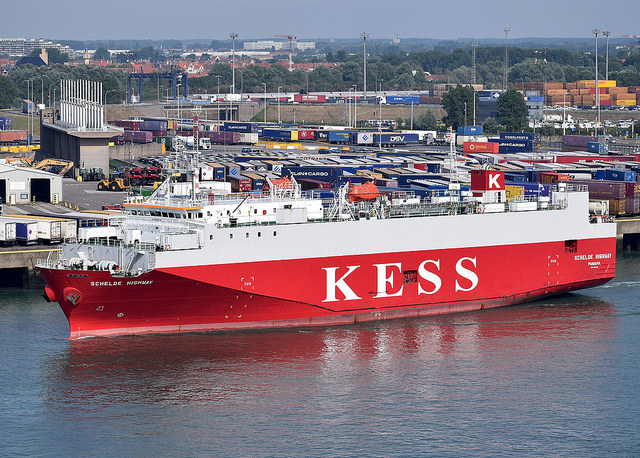PCC: (34, 154, 626, 344)
